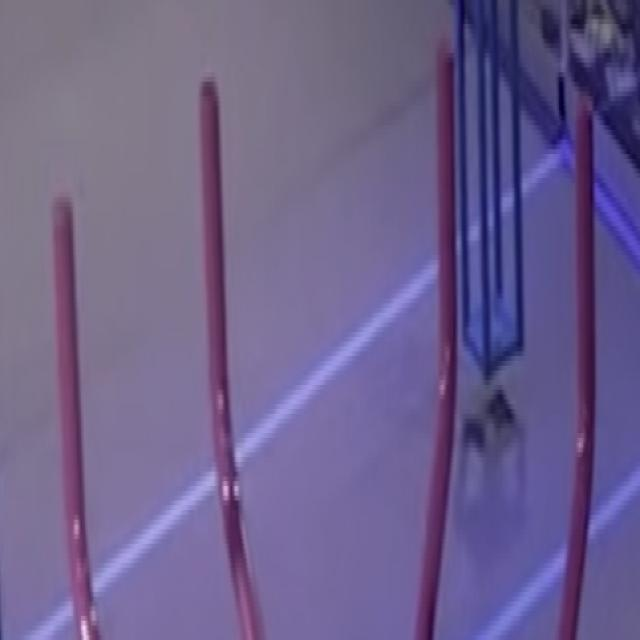Reef: (200, 79, 231, 450), (54, 201, 84, 534), (576, 97, 594, 486), (437, 48, 455, 348)
